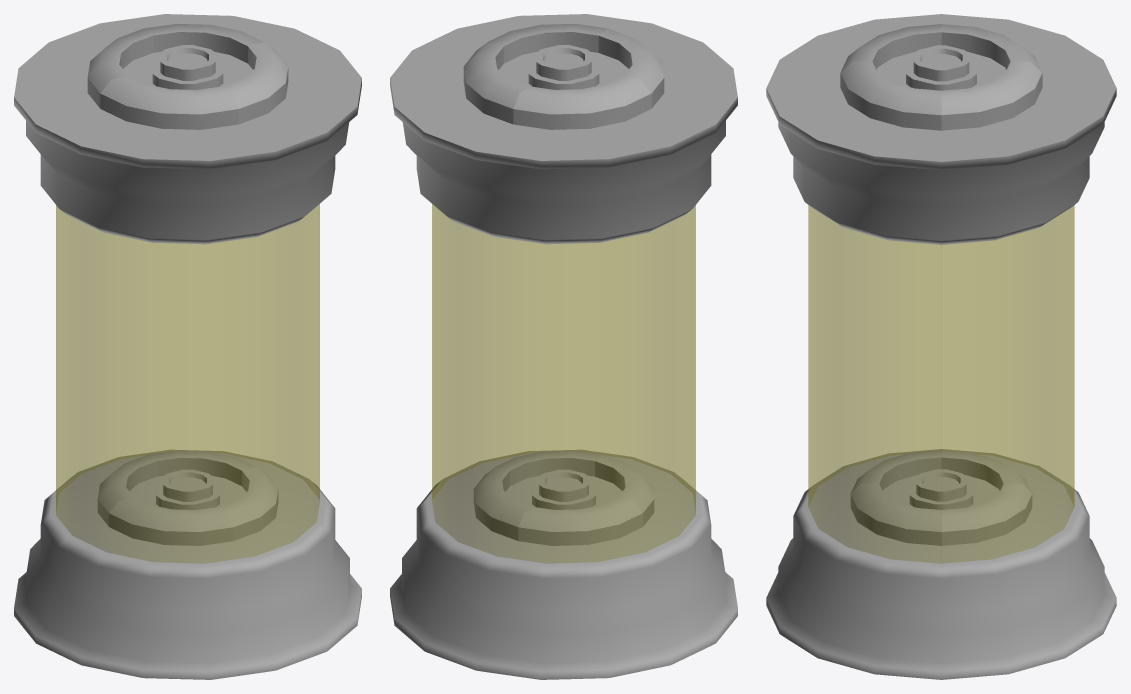
The model's file is SM_Generator_01_C.fbx.
3 renders of one model, left to right at view 1: azimuth 30°, elevation 25°; view 2: azimuth 150°, elevation 25°; view 3: azimuth 270°, elevation 25°, orthographic.
Visible parts, largest first — view 1: pCylinder616; view 2: pCylinder616; view 3: pCylinder616.
Boxes of the visible parts, box(x1,y1,x2,y2) form: pCylinder616: box(14, 14, 361, 679); pCylinder616: box(390, 14, 737, 679); pCylinder616: box(766, 14, 1116, 679).
Size of the model in its own units: 184 by 317 by 184.
